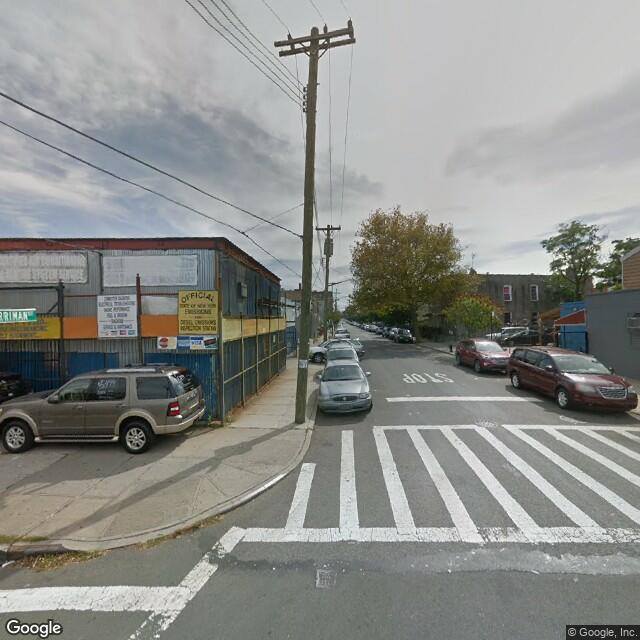litter: (1, 556, 17, 568)
